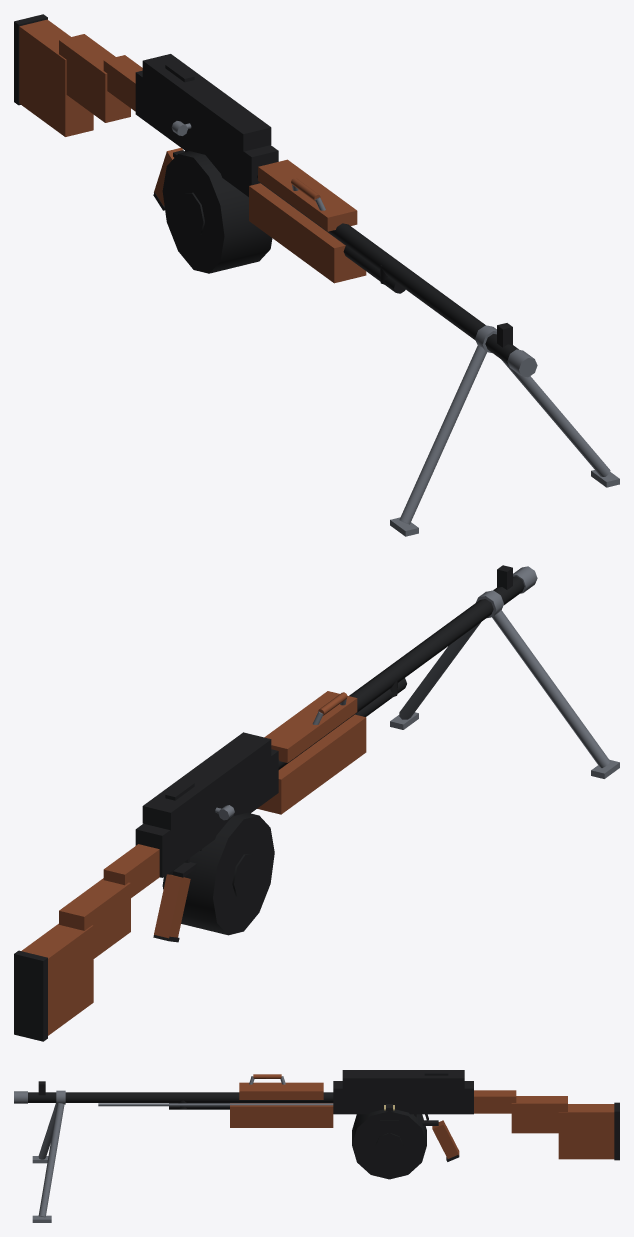
Rendered from rpd-light-machine-gun.glb.
3 renders of one model, top to bottom at view 1: azimuth 30°, elevation 25°; view 2: azimuth 150°, elevation 25°; view 3: azimuth 270°, elevation 25°, orthographic. The views are drawn at different scales.
Parts seen in each view (by area): view 1: Mesh_DrumMagazine, Mesh_StockButt, Mesh_Receiver, Mesh_ReceiverCover, Mesh_HandguardBottom, Mesh_Barrel, Mesh_StockCenter, Mesh_HandguardTop, Mesh_BipodLegR, Mesh_BipodLegL, Mesh_StockNeck, Mesh_DrumInnerBoss; view 2: Mesh_DrumMagazine, Mesh_Receiver, Mesh_ReceiverCover, Mesh_StockButt, Mesh_HandguardBottom, Mesh_Barrel, Mesh_StockCenter, Mesh_Buttplate, Mesh_HandguardTop, Mesh_BipodLegR, Mesh_StockNeck, Mesh_PistolGrip (+2 smaller); view 3: Mesh_DrumMagazine, Mesh_Receiver, Mesh_StockButt, Mesh_Barrel, Mesh_HandguardBottom, Mesh_ReceiverCover, Mesh_StockCenter, Mesh_HandguardTop, Mesh_StockNeck, Mesh_BipodLegL, Mesh_CleaningRod, Mesh_DrumInnerBoss (+5 smaller).
Part boxes in pixels (x1=…): Mesh_DrumMagazine: x1=162, y1=151, x2=272, y2=273; Mesh_StockButt: x1=19, y1=19, x2=93, y2=136; Mesh_Receiver: x1=135, y1=70, x2=278, y2=196; Mesh_ReceiverCover: x1=142, y1=54, x2=271, y2=151; Mesh_HandguardBottom: x1=249, y1=183, x2=366, y2=283; Mesh_Barrel: x1=257, y1=175, x2=518, y2=364; Mesh_StockCenter: x1=59, y1=34, x2=130, y2=122; Mesh_HandguardTop: x1=258, y1=159, x2=357, y2=231; Mesh_BipodLegR: x1=399, y1=346, x2=486, y2=524; Mesh_BipodLegL: x1=501, y1=359, x2=610, y2=476; Mesh_StockNeck: x1=103, y1=55, x2=142, y2=111; Mesh_DrumInnerBoss: x1=180, y1=192, x2=204, y2=235; Mesh_DrumMagazine: x1=162, y1=812, x2=274, y2=935; Mesh_Receiver: x1=135, y1=749, x2=278, y2=877; Mesh_ReceiverCover: x1=142, y1=732, x2=271, y2=830; Mesh_StockButt: x1=21, y1=923, x2=93, y2=1035; Mesh_HandguardBottom: x1=257, y1=714, x2=366, y2=814; Mesh_Barrel: x1=278, y1=576, x2=524, y2=769; Mesh_StockCenter: x1=59, y1=878, x2=130, y2=958; Mesh_Buttplate: x1=14, y1=950, x2=47, y2=1041; Mesh_HandguardTop: x1=264, y1=691, x2=357, y2=762; Mesh_BipodLegR: x1=492, y1=609, x2=610, y2=767; Mesh_StockNeck: x1=103, y1=844, x2=159, y2=897; Mesh_PistolGrip: x1=154, y1=874, x2=190, y2=938; Mesh_DrumMagazine: x1=352, y1=1109, x2=426, y2=1179; Mesh_Receiver: x1=333, y1=1081, x2=473, y2=1114; Mesh_StockButt: x1=558, y1=1104, x2=614, y2=1159; Mesh_Barrel: x1=28, y1=1092, x2=333, y2=1102; Mesh_HandguardBottom: x1=230, y1=1103, x2=333, y2=1127; Mesh_ReceiverCover: x1=342, y1=1070, x2=464, y2=1088; Mesh_StockCenter: x1=511, y1=1096, x2=567, y2=1133; Mesh_HandguardTop: x1=239, y1=1082, x2=323, y2=1099; Mesh_StockNeck: x1=474, y1=1090, x2=516, y2=1113; Mesh_BipodLegL: x1=38, y1=1103, x2=64, y2=1217; Mesh_CleaningRod: x1=98, y1=1103, x2=333, y2=1106; Mesh_DrumInnerBoss: x1=375, y1=1133, x2=403, y2=1158.
Bounding box in the file's own units: 0.32 × 0.28 × 1.29.
